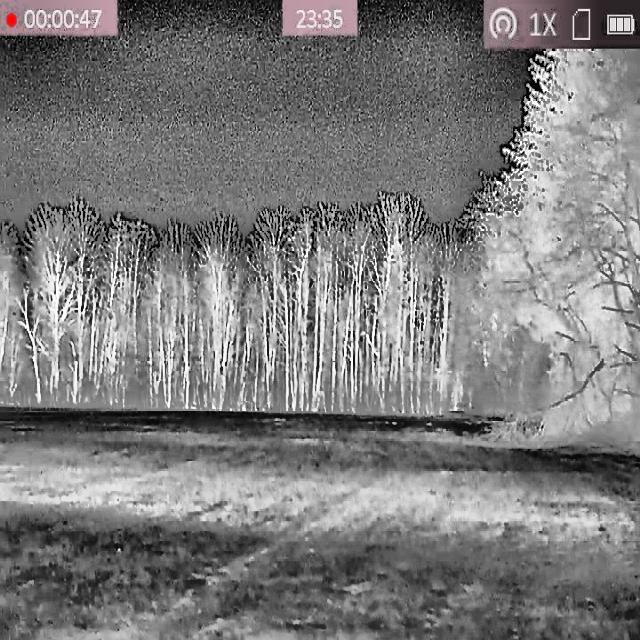drone: (118, 220, 123, 227)
